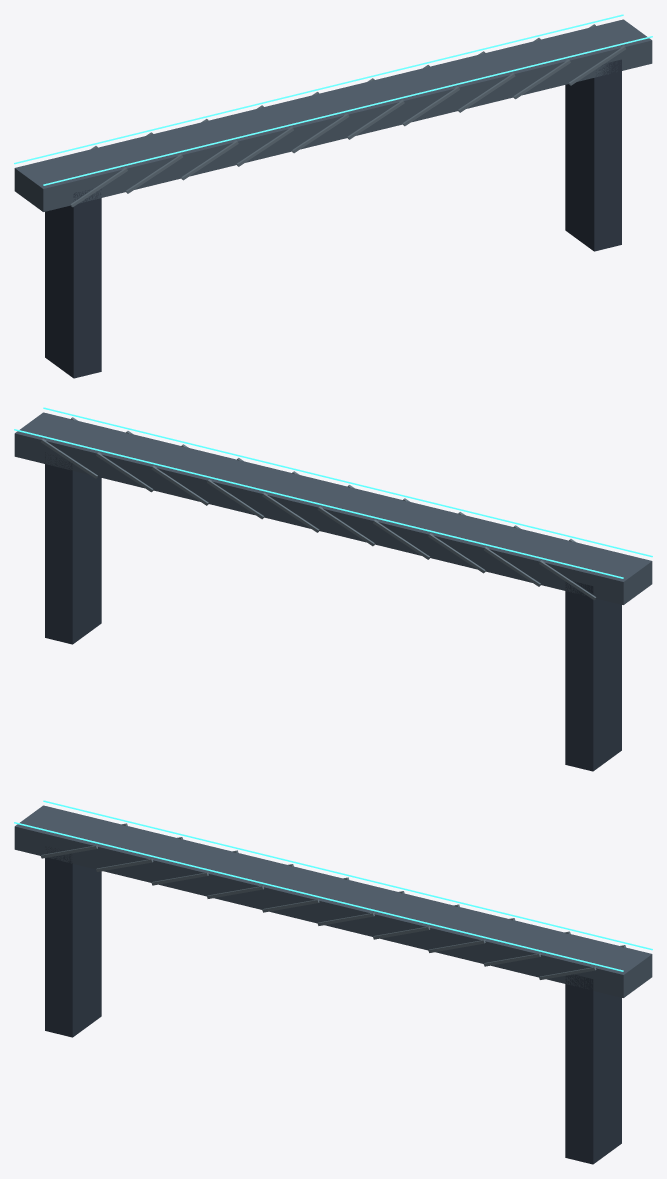
File: service_bridge.glb
3 renders of one model, top to bottom at view 1: azimuth 30°, elevation 25°; view 2: azimuth 150°, elevation 25°; view 3: azimuth 330°, elevation 25°, orthographic.
Visible parts, largest first — view 1: service_bridge; view 2: service_bridge; view 3: service_bridge.
Boxes of the visible parts, left/top/right/bottom form: service_bridge: left=14, top=14, right=652, bottom=378; service_bridge: left=14, top=407, right=652, bottom=771; service_bridge: left=14, top=800, right=652, bottom=1164.
Size of the model in its own units: 110 by 34.79 by 9.7.
